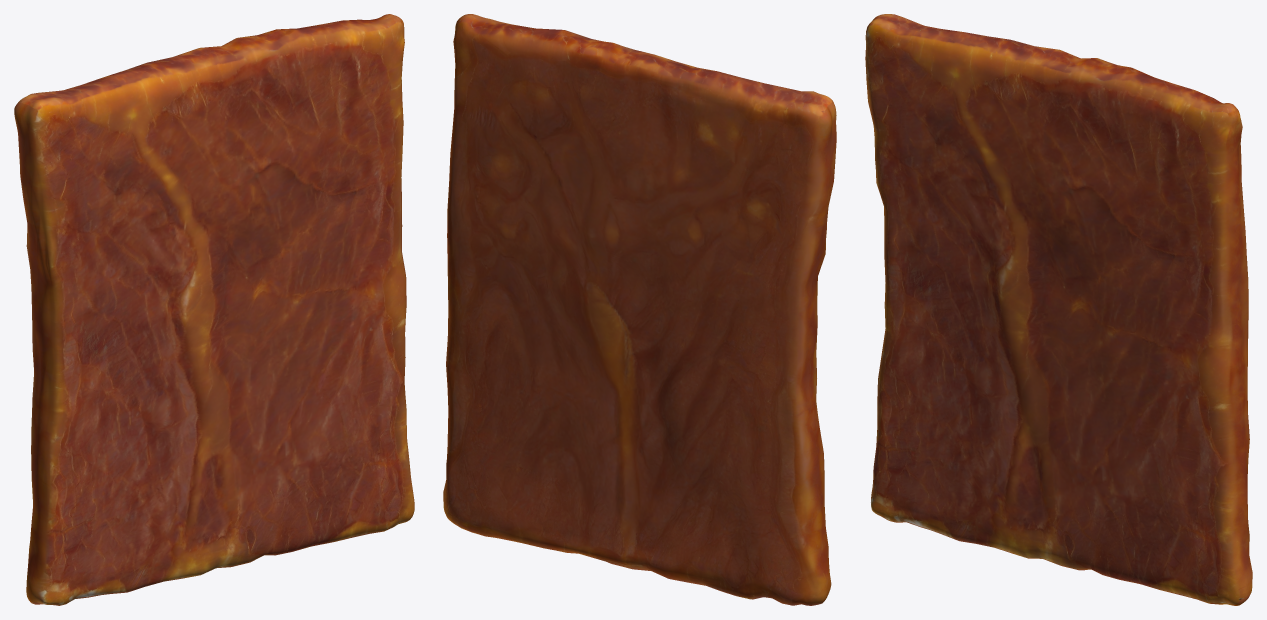
File: Scarlet_Square_0801041450_texture.fbx
3 views of the same model, side by side, from view 1: azimuth 30°, elevation 25°; view 2: azimuth 150°, elevation 25°; view 3: azimuth 330°, elevation 25° (orthographic). The views are drawn at different scales.
Visible parts, largest first — view 1: Mesh_0; view 2: Mesh_0; view 3: Mesh_0.
Part boxes in pixels (x1,y1,x2,y2): Mesh_0: (14,14,414,605); Mesh_0: (443,14,836,605); Mesh_0: (865,14,1252,605).
Bounding box in the file's own units: 157 × 199 × 22.46.
1 material, 1 textured.
